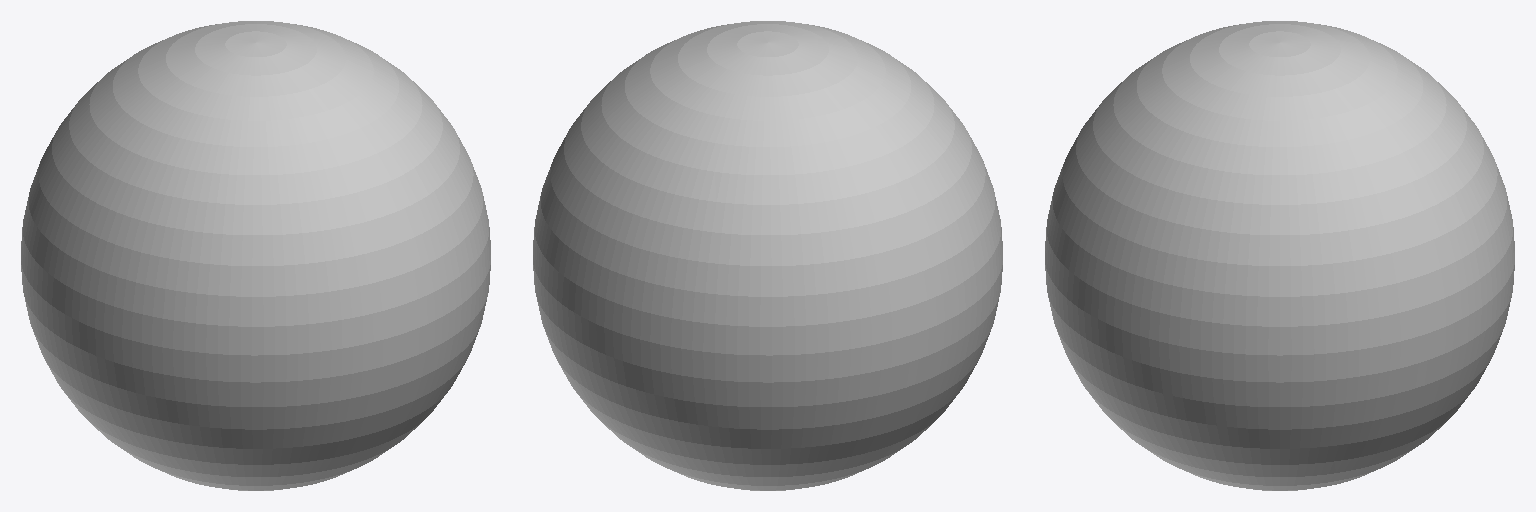
Rendered from Jupiter.obj.
The picture shows the model from 3 angles: view 1: azimuth 30°, elevation 25°; view 2: azimuth 150°, elevation 25°; view 3: azimuth 270°, elevation 25°; orthographic projection.
Visible parts, largest first — view 1: Sphere; view 2: Sphere; view 3: Sphere.
Boxes of the visible parts, x1=… form: Sphere: x1=21, y1=21, x2=490, y2=490; Sphere: x1=533, y1=21, x2=1002, y2=490; Sphere: x1=1045, y1=21, x2=1514, y2=490.
Bounding box in the file's own units: 2 × 2 × 2.